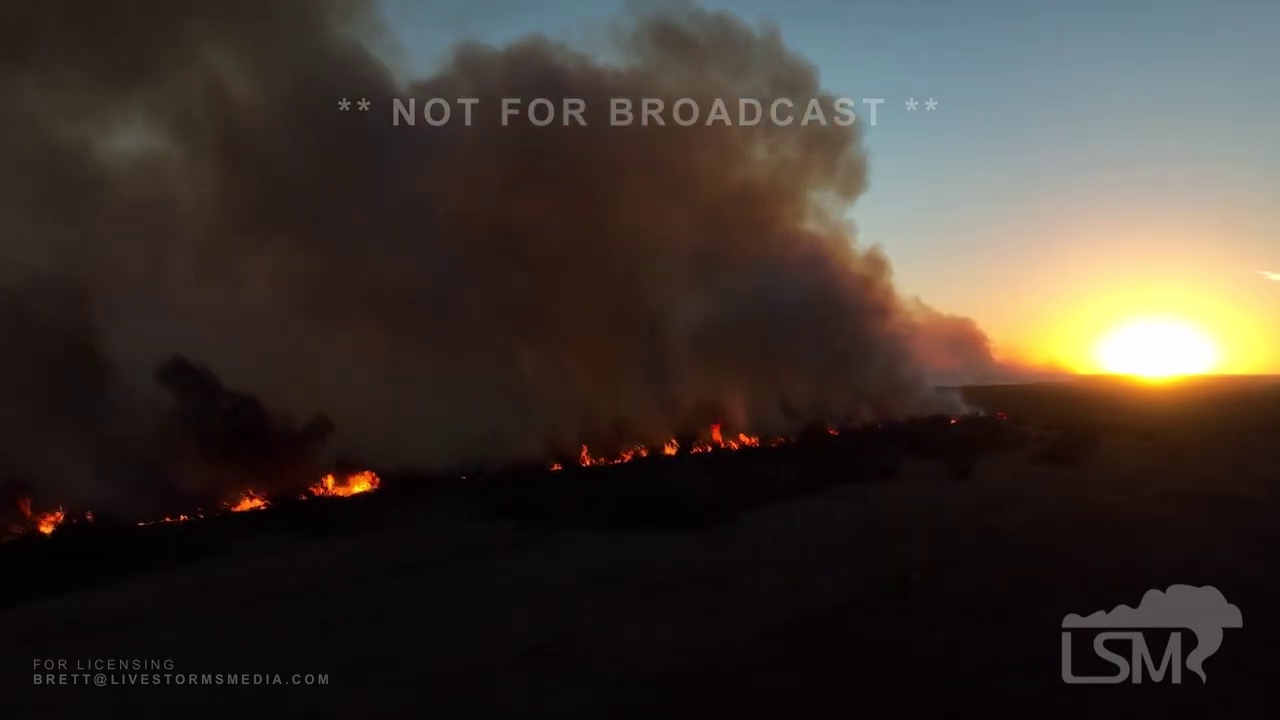forest_fire: (298, 470, 380, 499), (685, 423, 760, 453), (19, 499, 66, 535), (577, 445, 649, 466), (218, 491, 272, 511), (138, 511, 205, 523), (655, 438, 681, 455)
